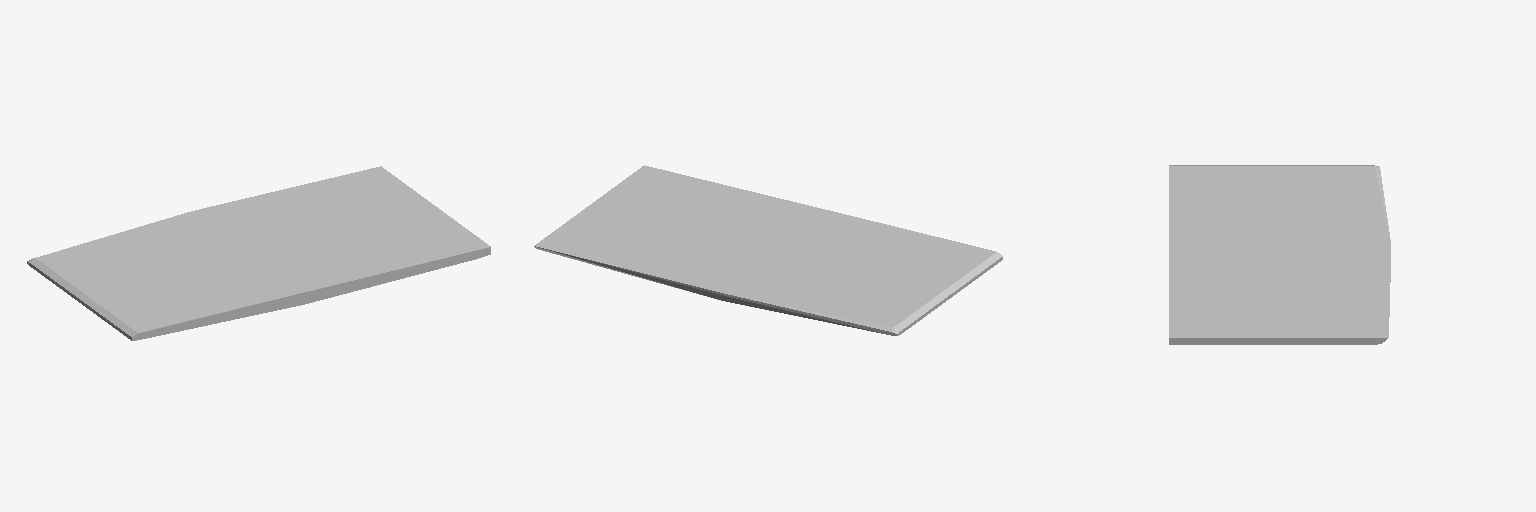
The model's file is ShipScene_collision_9.obj.
3 views of the same model, side by side, from view 1: azimuth 30°, elevation 25°; view 2: azimuth 150°, elevation 25°; view 3: azimuth 270°, elevation 25° (orthographic).
Bounding box in the file's own units: 243 × 7.9 × 131.